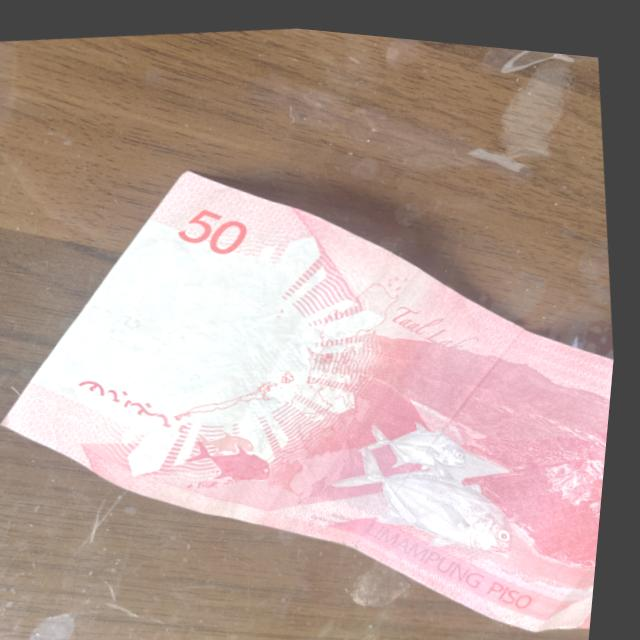50_maliputo: (319, 384, 552, 589)
50_maliputo_watermark: (184, 410, 293, 493)
value_watermark: (106, 302, 162, 350)
watermark: (87, 238, 313, 441)
